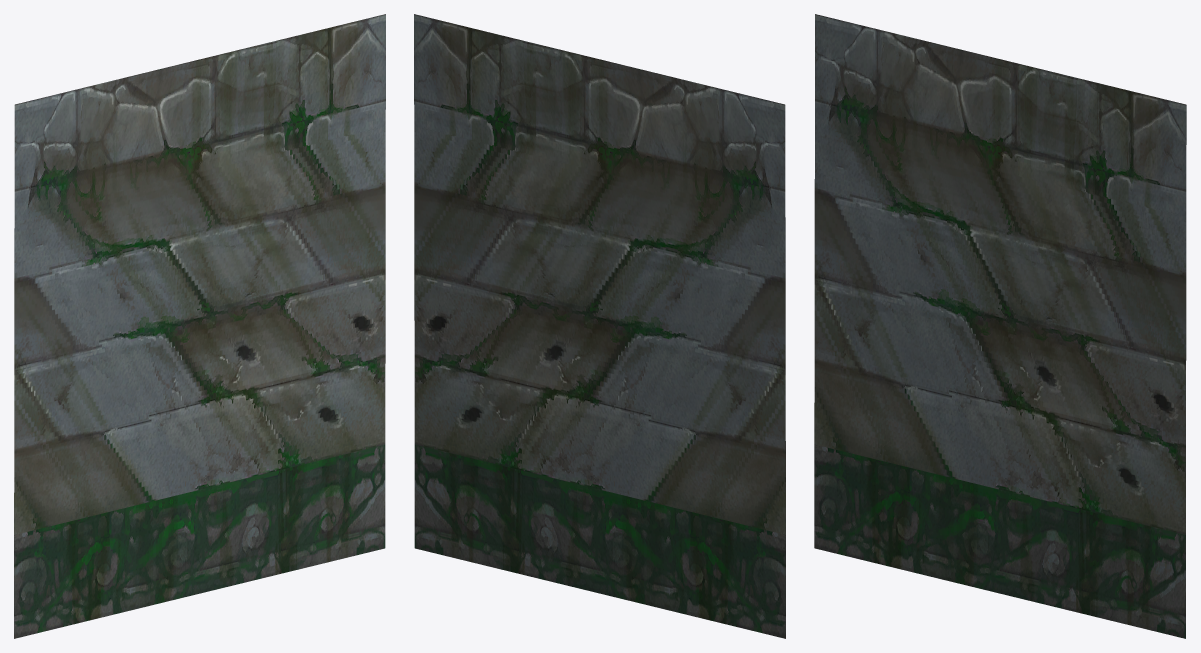
The model's file is stemple_wall_straight_dart.fbx.
3 views of the same model, side by side, from view 1: azimuth 30°, elevation 25°; view 2: azimuth 150°, elevation 25°; view 3: azimuth 330°, elevation 25° (orthographic).
Visible parts, largest first — view 1: stemple_wall_straight_dart-0; view 2: stemple_wall_straight_dart-0; view 3: stemple_wall_straight_dart-0.
Part boxes in pixels (<box>): stemple_wall_straight_dart-0: <box>14,14,385,638</box>; stemple_wall_straight_dart-0: <box>414,14,785,638</box>; stemple_wall_straight_dart-0: <box>814,14,1186,638</box>.
Bounding box in the file's own units: 4.01 × 5.5 × 0.00093.
